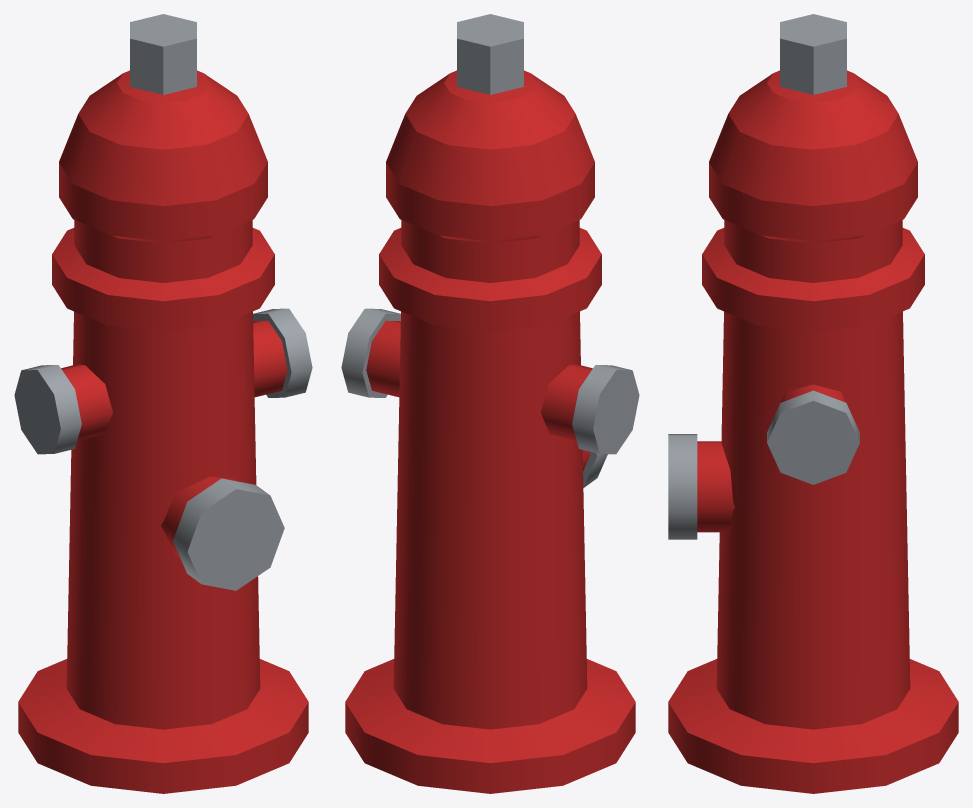
The model's file is prop_hydrant_red.glb.
3 renders of one model, left to right at view 1: azimuth 30°, elevation 25°; view 2: azimuth 150°, elevation 25°; view 3: azimuth 270°, elevation 25°, orthographic.
Visible parts, largest first — view 1: prop_hydrant_red; view 2: prop_hydrant_red; view 3: prop_hydrant_red.
Part boxes in pixels (x1=…): prop_hydrant_red: x1=14, y1=14, x2=312, y2=793; prop_hydrant_red: x1=341, y1=14, x2=639, y2=793; prop_hydrant_red: x1=668, y1=14, x2=958, y2=793.
Bounding box in the file's own units: 0.3 × 0.8 × 0.3.
Materials: 1 (1 with a texture image).
